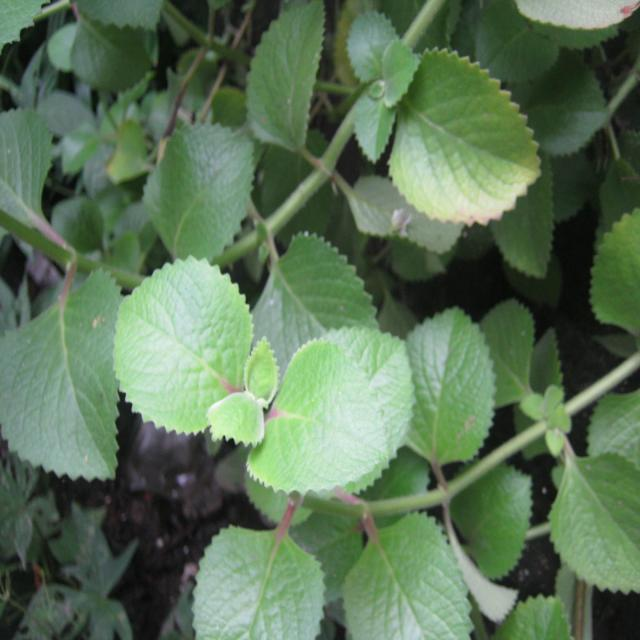Oregano: (383, 41, 559, 245), (103, 245, 270, 443)
